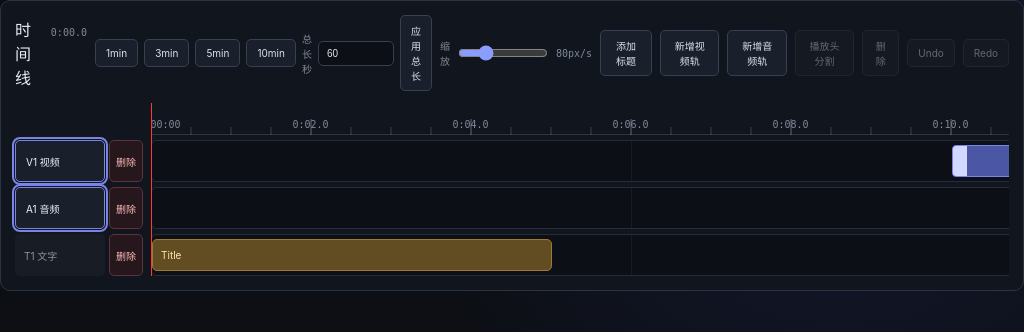
editor interactions › sets timeline duration from presets and exact seconds input
The width and height of the screenshot is (1024, 332).
Click the button "3min" at (167, 53), box top-left (144, 39), bottom-right (189, 67)
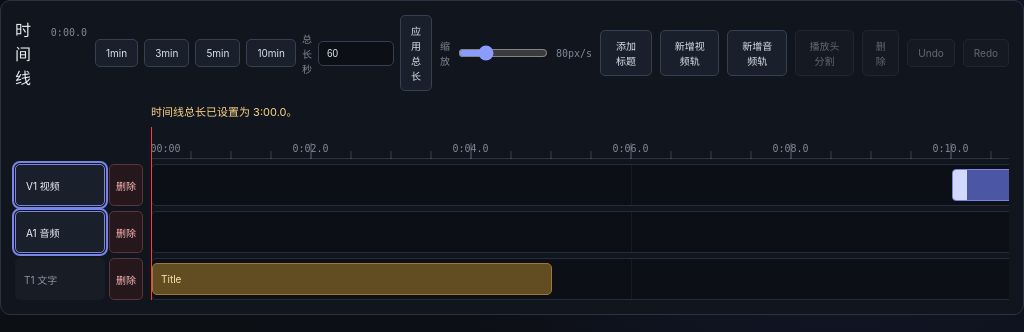
Replace the text in the number field named "时间线总时长（秒）" with "1" at (356, 53), box top-left (318, 40), bottom-right (394, 66)
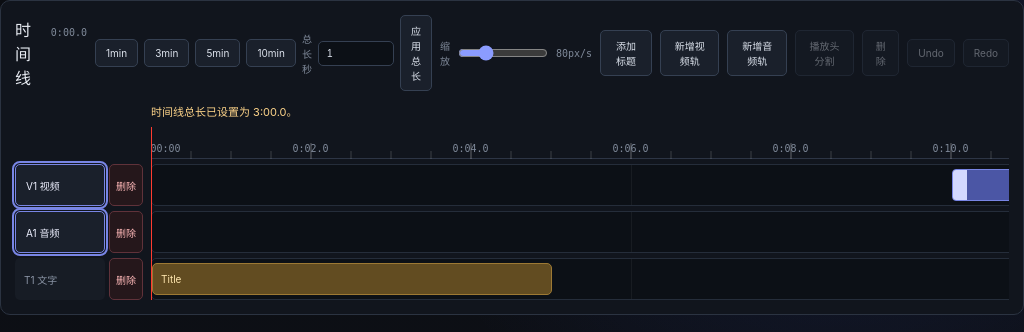
Click the button "应用总长" at (416, 53), box top-left (400, 15), bottom-right (432, 91)
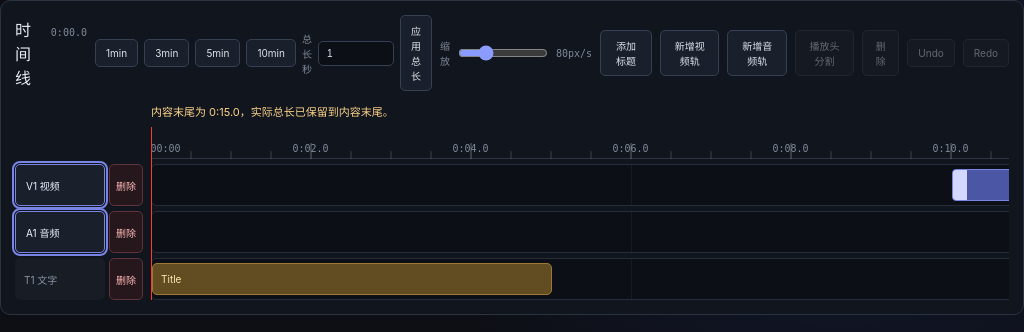
Expected: the message shows "内容末尾为", top-left (151, 105), bottom-right (394, 119)
